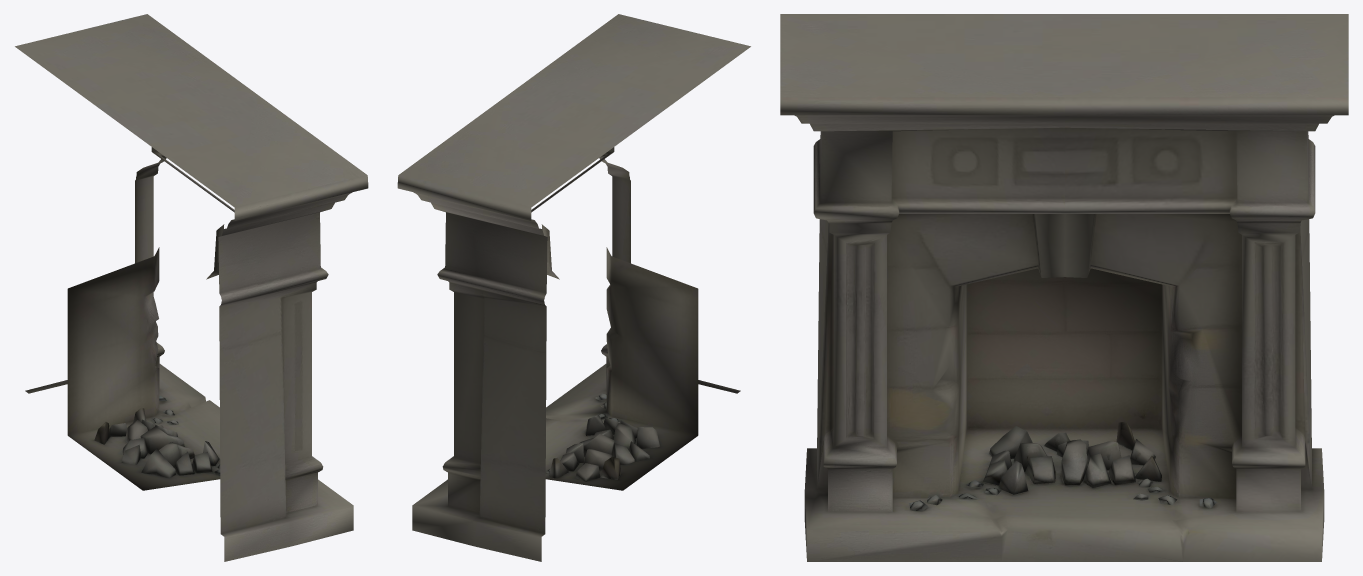
The model's file is Arch_Fireplace_Stone.glb.
3 renders of one model, left to right at view 1: azimuth 30°, elevation 25°; view 2: azimuth 150°, elevation 25°; view 3: azimuth 270°, elevation 25°, orthographic. The views are drawn at different scales.
Parts seen in each view (by area): view 1: tripo_node_4e09bfd0-fb0a-4dfd-be4b-7fd955940676; view 2: tripo_node_4e09bfd0-fb0a-4dfd-be4b-7fd955940676; view 3: tripo_node_4e09bfd0-fb0a-4dfd-be4b-7fd955940676.
Part boxes in pixels (box(x1,y1,x2,y2)): tripo_node_4e09bfd0-fb0a-4dfd-be4b-7fd955940676: box(15, 14, 368, 561); tripo_node_4e09bfd0-fb0a-4dfd-be4b-7fd955940676: box(397, 14, 750, 561); tripo_node_4e09bfd0-fb0a-4dfd-be4b-7fd955940676: box(780, 14, 1348, 561).
Size of the model in its own units: 0.5313 by 1.2 by 1.32.
1 material, 1 textured.
